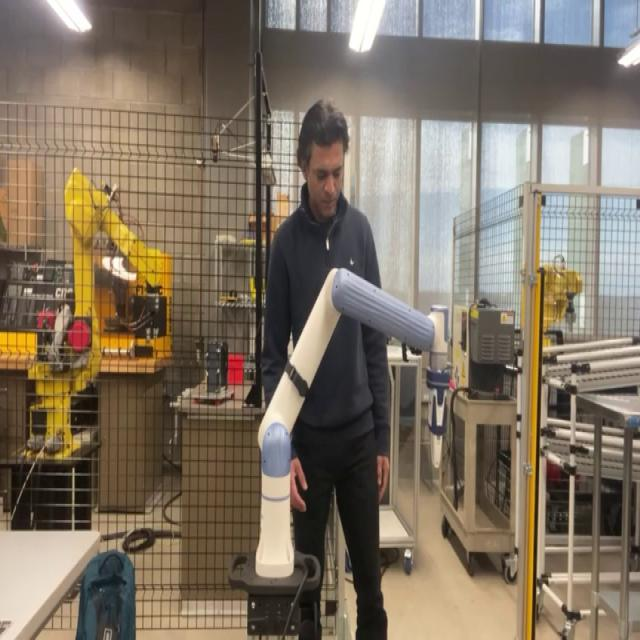human: (260, 98, 391, 638)
